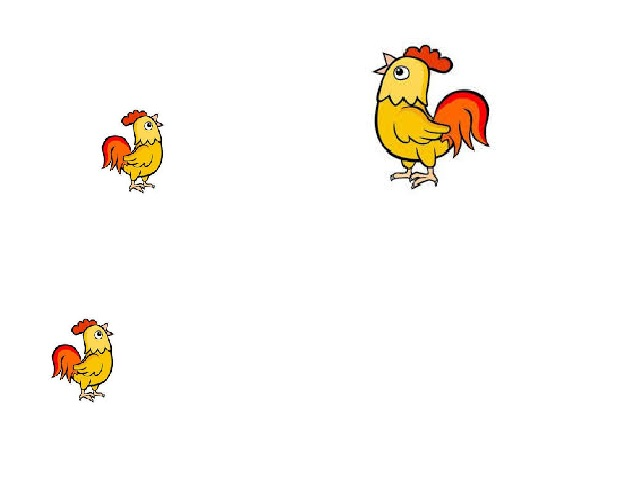crown: (406, 45, 456, 74), (69, 317, 98, 335), (120, 110, 145, 125)
eyes: (393, 63, 410, 81), (141, 119, 153, 132), (95, 331, 105, 342)
feet: (389, 170, 443, 188), (126, 181, 157, 194), (79, 391, 107, 403)
tail: (434, 88, 492, 155), (101, 134, 132, 172), (49, 344, 80, 380)
